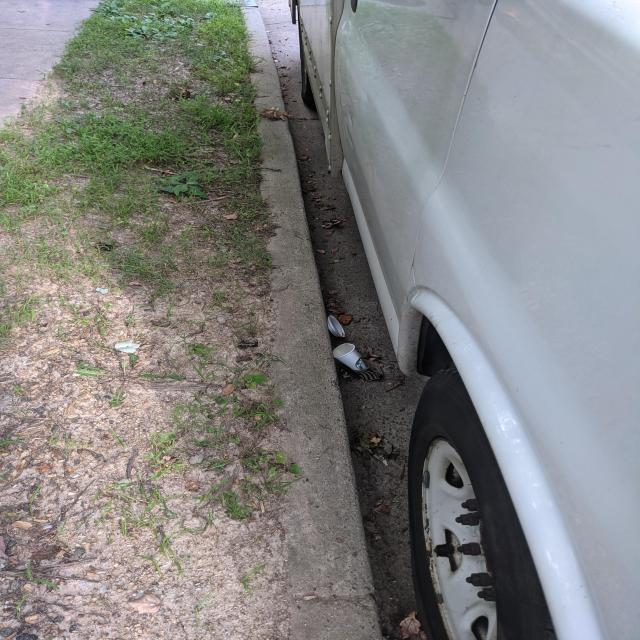litter: (336, 342, 368, 371), (326, 315, 347, 337), (114, 341, 141, 353)
